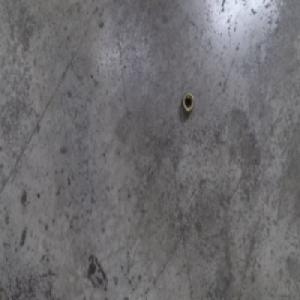Nut: (181, 90, 194, 113)
